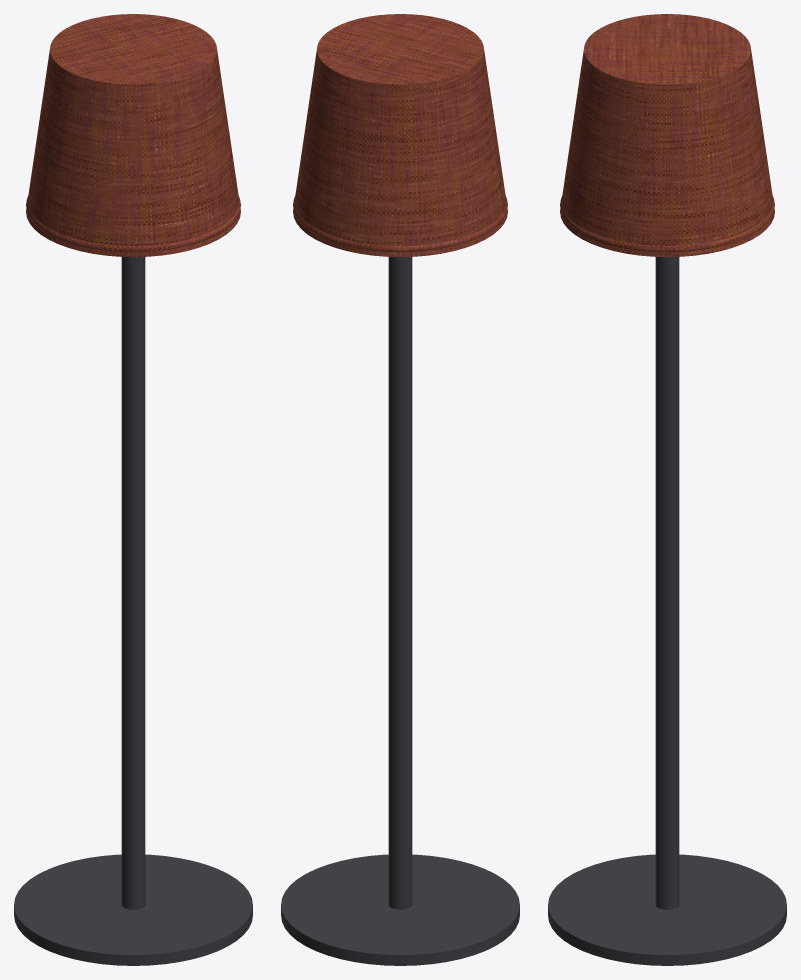
Rendered from fitroom_floor_lamp_1k.gltf.
The picture shows the model from 3 angles, left to right: view 1: azimuth 30°, elevation 25°; view 2: azimuth 150°, elevation 25°; view 3: azimuth 270°, elevation 25°; orthographic projection.
Visible parts, largest first — view 1: fitroom_floor_lamp-node-4, fitroom_floor_lamp-node-0, fitroom_floor_lamp-node-3, fitroom_floor_lamp-node-5; view 2: fitroom_floor_lamp-node-4, fitroom_floor_lamp-node-0, fitroom_floor_lamp-node-3, fitroom_floor_lamp-node-5; view 3: fitroom_floor_lamp-node-4, fitroom_floor_lamp-node-0, fitroom_floor_lamp-node-3, fitroom_floor_lamp-node-5.
Boxes of the visible parts, <box> form: fitroom_floor_lamp-node-4: <box>26,14,240,257</box>; fitroom_floor_lamp-node-0: <box>14,854,252,965</box>; fitroom_floor_lamp-node-3: <box>121,257,145,909</box>; fitroom_floor_lamp-node-5: <box>26,196,240,252</box>; fitroom_floor_lamp-node-4: <box>293,14,507,257</box>; fitroom_floor_lamp-node-0: <box>281,854,519,965</box>; fitroom_floor_lamp-node-3: <box>388,257,412,909</box>; fitroom_floor_lamp-node-5: <box>293,196,507,252</box>; fitroom_floor_lamp-node-4: <box>560,14,774,257</box>; fitroom_floor_lamp-node-0: <box>548,854,786,965</box>; fitroom_floor_lamp-node-3: <box>655,257,679,909</box>; fitroom_floor_lamp-node-5: <box>560,196,774,252</box>.
Size of the model in its own units: 0.4 by 1.6 by 0.4.
Materials: 2 (1 with a texture image).
